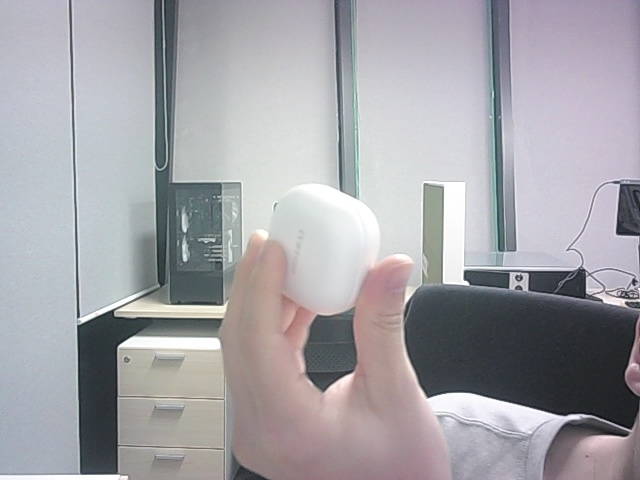case: (269, 183, 379, 315)
